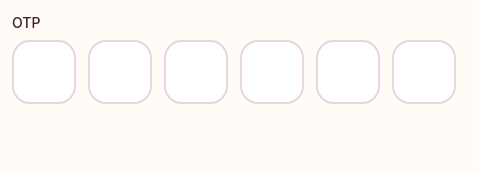
Test: OtpInput › spreads an autofilled code across the boxes, from any box
Type "232881" into the field named "Digit 3 of 6" at (196, 72), box [164,40,228,104]
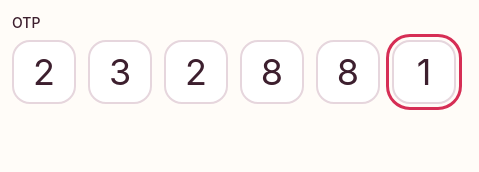
Check: the field named "Digit 1 of 6" holds "2", box [12,40,76,104]
